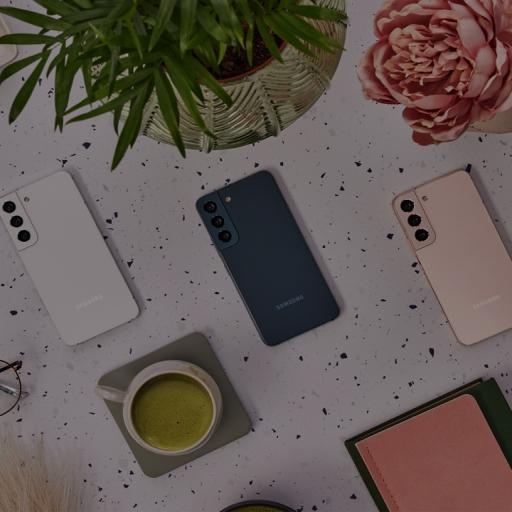phone: (191, 164, 348, 358)
